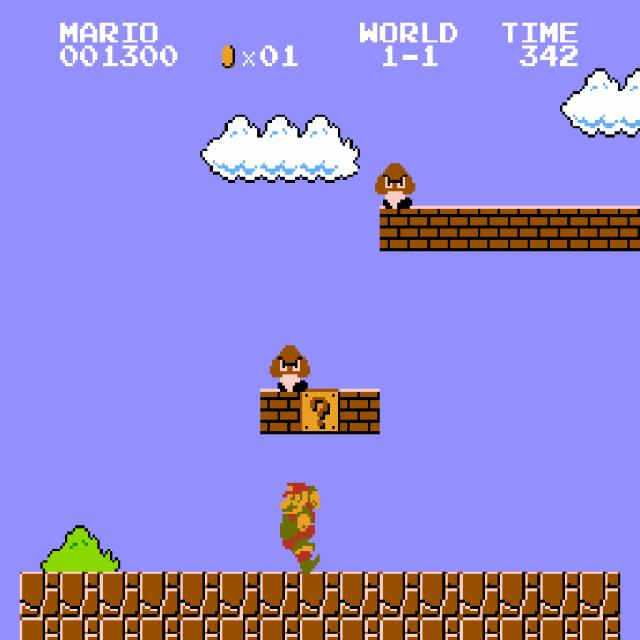big_mario: (277, 480, 320, 574)
brick_block: (260, 389, 300, 434), (340, 389, 380, 434), (380, 206, 420, 251), (420, 206, 460, 251), (460, 206, 500, 251), (500, 206, 540, 251), (540, 206, 580, 251), (580, 206, 620, 251), (620, 206, 640, 251)
goomba: (372, 160, 415, 208), (268, 343, 310, 391)
mystery_block: (300, 389, 340, 434)
undestructible_block: (20, 572, 60, 617), (60, 572, 100, 617), (100, 572, 140, 617), (140, 572, 180, 617), (180, 572, 220, 617), (220, 572, 260, 617), (260, 572, 300, 617), (300, 572, 340, 617), (340, 572, 380, 617), (380, 572, 420, 617), (420, 572, 460, 617), (460, 572, 500, 617), (500, 572, 540, 617), (540, 572, 580, 617), (580, 572, 620, 617), (20, 617, 60, 640), (60, 617, 100, 640), (100, 617, 140, 640), (140, 617, 180, 640), (180, 617, 220, 640), (220, 617, 260, 640), (260, 617, 300, 640), (300, 617, 340, 640), (340, 617, 380, 640), (380, 617, 420, 640), (420, 617, 460, 640), (460, 617, 500, 640), (500, 617, 540, 640), (540, 617, 580, 640), (580, 617, 620, 640)
